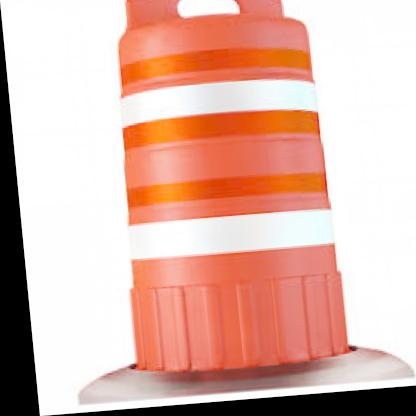obstacle: (94, 0, 354, 392)
